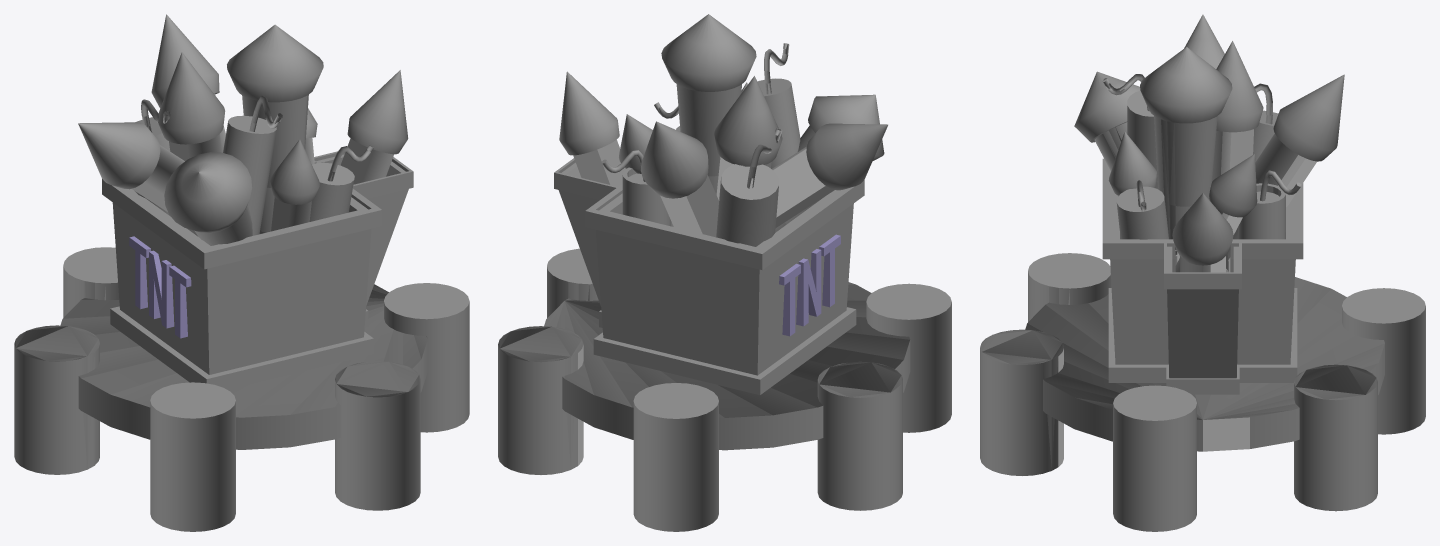
3 views of the same model, side by side, from view 1: azimuth 30°, elevation 25°; view 2: azimuth 150°, elevation 25°; view 3: azimuth 270°, elevation 25° (orthographic). The views are drawn at different scales.
Visible parts, largest first — view 1: Cylinder011, Box002, Cylinder005, Cone005, Cone002, Cone001, Cone007, Cone003, Cylinder003, Text001, Cone006, Cone004 (+2 smaller); view 2: Cylinder011, Box002, Cylinder005, Cone005, Cone001, Cone004, Cylinder001, Cone003, Cone007, Text001, Cone002, Cylinder003 (+2 smaller); view 3: Cylinder011, Box002, Cylinder005, Cone005, Cone004, Cone007, Cone003, Cone002, Cylinder004, Cylinder002, Cone008, Cylinder003 (+3 smaller).
Boxes of the visible parts, <box> form: Cylinder011: <box>14,247,469,531</box>; Box002: <box>102,151,413,389</box>; Cylinder005: <box>60,284,427,449</box>; Cone005: <box>227,24,323,232</box>; Cone002: <box>164,152,252,245</box>; Cone001: <box>78,122,265,233</box>; Cone007: <box>158,52,225,236</box>; Cone003: <box>340,70,408,184</box>; Cylinder003: <box>223,95,282,235</box>; Text001: <box>129,236,191,338</box>; Cone006: <box>270,139,319,231</box>; Cone004: <box>151,14,225,152</box>; Cylinder011: <box>498,248,951,531</box>; Box002: <box>554,158,864,394</box>; Cylinder005: <box>544,282,910,450</box>; Cone005: <box>661,14,756,194</box>; Cone001: <box>771,123,887,227</box>; Cone004: <box>640,121,718,237</box>; Cylinder001: <box>716,128,782,246</box>; Cone003: <box>559,71,625,186</box>; Cone007: <box>714,76,782,200</box>; Text001: <box>779,234,840,336</box>; Cone002: <box>775,94,884,232</box>; Cylinder003: <box>743,43,800,168</box>; Cylinder011: <box>980,253,1425,531</box>; Box002: <box>1102,158,1303,394</box>; Cylinder005: <box>1025,277,1384,451</box>; Cone005: <box>1140,47,1232,250</box>; Cone004: <box>1227,74,1344,272</box>; Cone007: <box>1212,41,1263,181</box>; Cone003: <box>1172,193,1233,272</box>; Cone002: <box>1074,71,1177,255</box>; Cylinder004: <box>1116,180,1168,239</box>; Cylinder002: <box>1238,170,1301,239</box>; Cone008: <box>1175,154,1257,272</box>; Cylinder003: <box>1102,74,1158,188</box>.
Bounding box in the file's own units: 1276 × 1270 × 1274.
